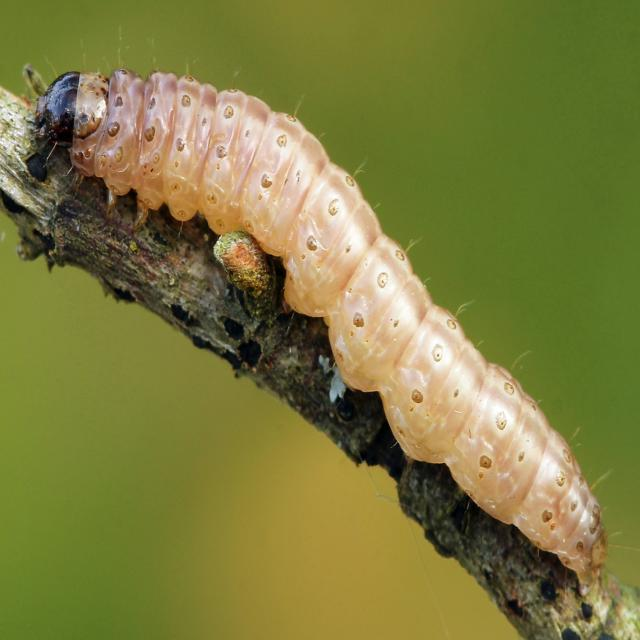cornborer-Larva-: (32, 54, 615, 583)
